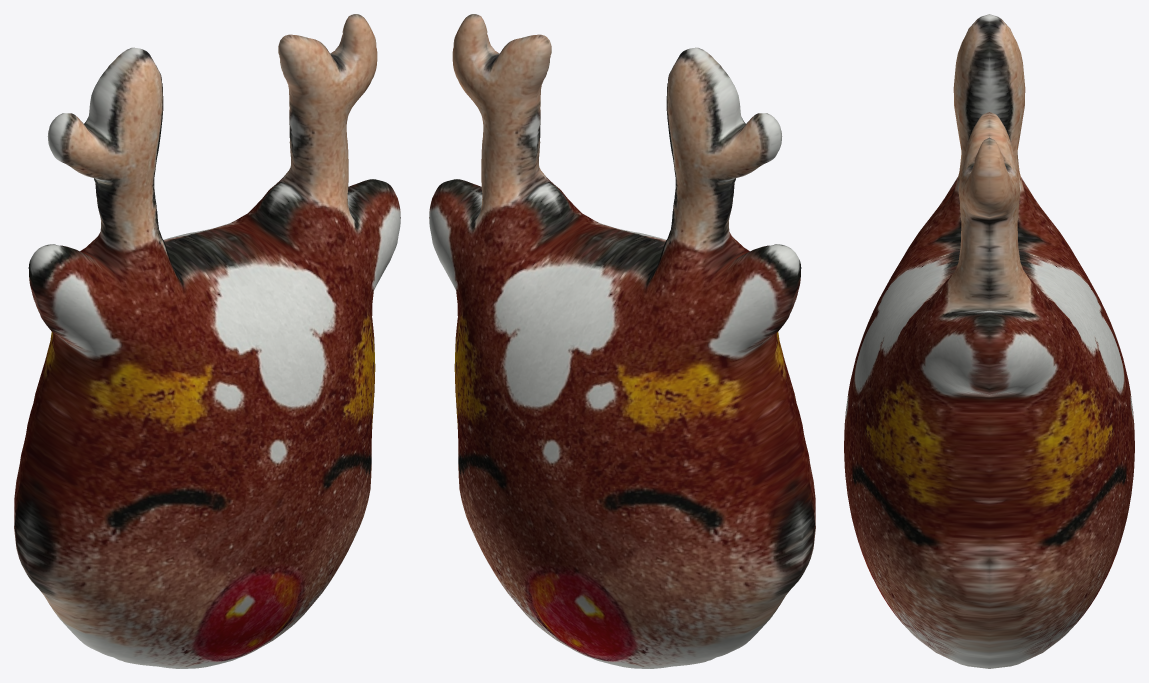
Rendered from rudolph.glb.
3 views of the same model, side by side, from view 1: azimuth 30°, elevation 25°; view 2: azimuth 150°, elevation 25°; view 3: azimuth 270°, elevation 25° (orthographic). The views are drawn at different scales.
Size of the model in its own units: 3.63 by 5.87 by 2.54.
Materials: 1 (1 with a texture image).
